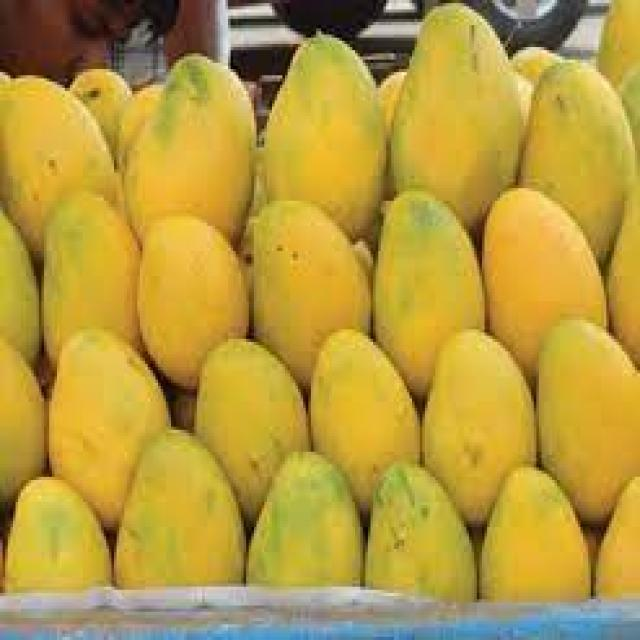mango: (135, 216, 251, 430)
